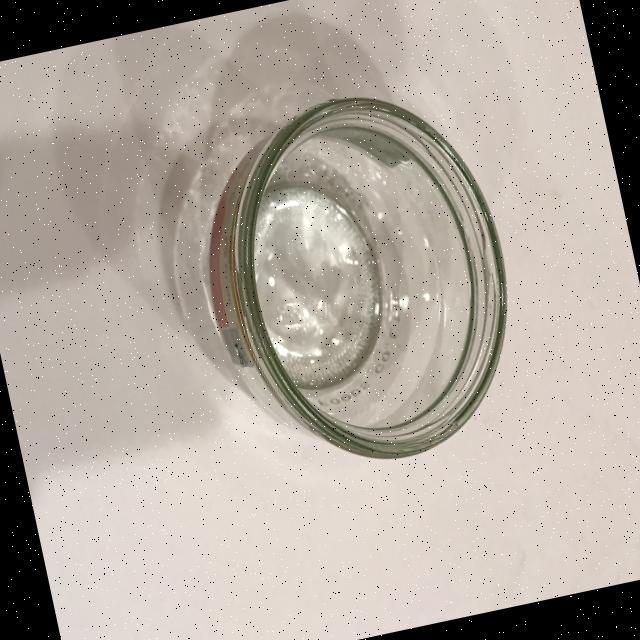glass: (172, 68, 540, 490)
